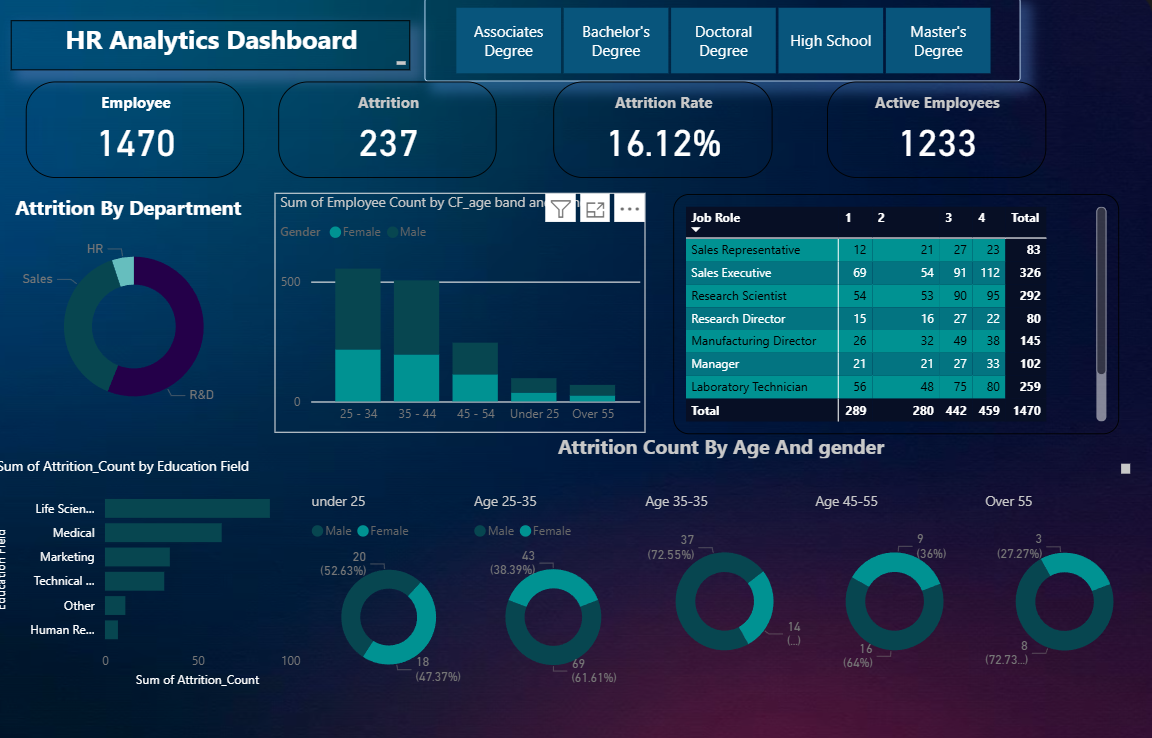

What the dashboard file says about the page in this screenshot:
{"tool":"powerbi","page":{"name":"Page 1","canvas":[1280,720],"ordinal":0},"visuals":[{"type":"donutChart","title":"Attrition By Department","fields":{"Category":["HR data.Department"],"Y":["Sum(HR data.Attrition_Count)"]},"box":[143,189,219,211],"z":3000},{"type":"pivotTable","fields":{"Columns":["HR data.Job Satisfaction"],"Rows":["HR data.Job Role"],"Values":["Sum(HR data.Employee Count)"]},"box":[726.7,188.9,392.2,211.1],"z":3001},{"type":"columnChart","fields":{"Y":["Sum(HR data.Employee Count)"],"Category":["HR data.CF_age band"],"Series":["HR data.Gender"]},"box":[375.6,187.8,326.7,211.1],"z":3002},{"type":"barChart","fields":{"Category":["HR data.Education Field"],"Y":["Sum(HR data.Attrition_Count)"]},"box":[126.2,420,277.5,207.5],"z":3003},{"type":"donutChart","title":"under 25","fields":{"Y":["Sum(HR data.Attrition_Count)"],"Category":["HR data.Gender"],"Series":["HR data.CF_age band"]},"box":[403.8,450,146.2,177.5],"z":3004},{"type":"textbox","title":"Attrition Count By Age And gender","box":[403.3,398.9,730,41.1],"z":3005},{"type":"textbox","title":"HR Analytics Dashboard","box":[143.8,36.2,351.2,43.8],"z":3011},{"type":"slicer","fields":{"Values":["HR data.Education"]},"box":[507.5,16.2,523.8,73.8],"z":3012},{"type":"card","title":"Employee","fields":{"Values":["Sum(HR data.Employee Count)"]},"box":[156.7,90,192.2,84.4],"z":3013},{"type":"card","title":"Attrition","fields":{"Values":["Sum(HR data.Attrition_Count)"]},"box":[378.9,90,192.2,84.4],"z":3014},{"type":"card","title":"Attrition Rate","fields":{"Values":["HR data.Attrition_Rate"]},"box":[621.2,90,192.5,85],"z":3015},{"type":"card","title":"Active Employees","fields":{"Values":["HR data.Active_Employees"]},"box":[861.2,90,192.5,85],"z":3016},{"type":"donutChart","title":"Age 25-35","fields":{"Y":["Sum(HR data.Attrition_Count)"],"Category":["HR data.Gender"],"Series":["HR data.CF_age band"]},"box":[546.2,450,150,177.5],"z":3017},{"type":"donutChart","title":"Age 35-35","fields":{"Y":["Sum(HR data.Attrition_Count)"],"Category":["HR data.Gender"],"Series":["HR data.CF_age band"]},"box":[696.2,450,150,177.5],"z":3018},{"type":"donutChart","title":"Age 45-55","fields":{"Y":["Sum(HR data.Attrition_Count)"],"Category":["HR data.Gender"],"Series":["HR data.CF_age band"]},"box":[846.2,450,150,177.5],"z":3019},{"type":"donutChart","title":"Over 55","fields":{"Y":["Sum(HR data.Attrition_Count)"],"Category":["HR data.Gender"],"Series":["HR data.CF_age band"]},"box":[996,450,150,178],"z":3020}]}

Visuals, with their boxes on the page's 1280x720 design canvas (x1, y1, x2, y2). These are canvas units, not pixel positions in the 1152x738 screenshot, which may show the page scaled, cropped or inside an application window:
"Attrition By Department" donutChart: <region>143, 189, 362, 400</region>
pivotTable - HR data.Job Satisfaction x HR data.Job Role: <region>727, 189, 1119, 400</region>
columnChart - Sum(HR data.Employee Count) x HR data.CF_age band: <region>376, 188, 702, 399</region>
barChart - HR data.Education Field x Sum(HR data.Attrition_Count): <region>126, 420, 404, 628</region>
"under 25" donutChart: <region>404, 450, 550, 628</region>
"Attrition Count By Age And gender" textbox: <region>403, 399, 1133, 440</region>
"HR Analytics Dashboard" textbox: <region>144, 36, 495, 80</region>
slicer - HR data.Education: <region>508, 16, 1031, 90</region>
"Employee" card: <region>157, 90, 349, 174</region>
"Attrition" card: <region>379, 90, 571, 174</region>
"Attrition Rate" card: <region>621, 90, 814, 175</region>
"Active Employees" card: <region>861, 90, 1054, 175</region>
"Age 25-35" donutChart: <region>546, 450, 696, 628</region>
"Age 35-35" donutChart: <region>696, 450, 846, 628</region>
"Age 45-55" donutChart: <region>846, 450, 996, 628</region>
"Over 55" donutChart: <region>996, 450, 1146, 628</region>
